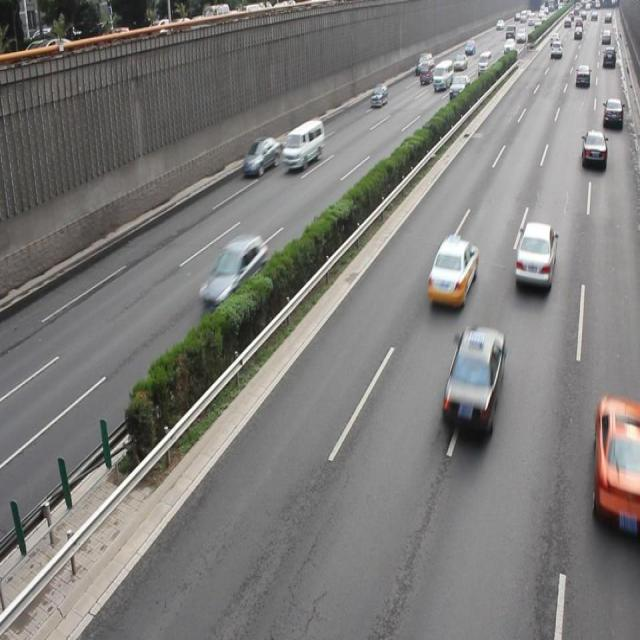car: (439, 323, 504, 441), (592, 396, 640, 539), (198, 234, 267, 314), (426, 235, 477, 308), (513, 222, 557, 292), (243, 135, 279, 176), (581, 130, 606, 170), (601, 96, 622, 130)
truck: (280, 119, 324, 170)
